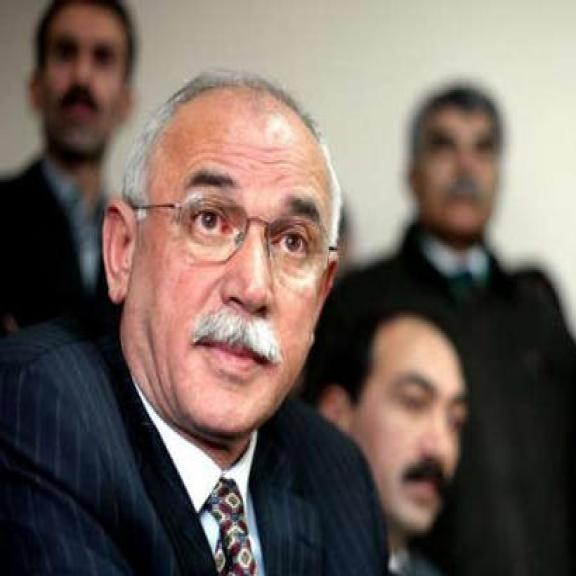face: (101, 128, 342, 435), (331, 311, 472, 539), (22, 0, 138, 153), (400, 102, 501, 243)
